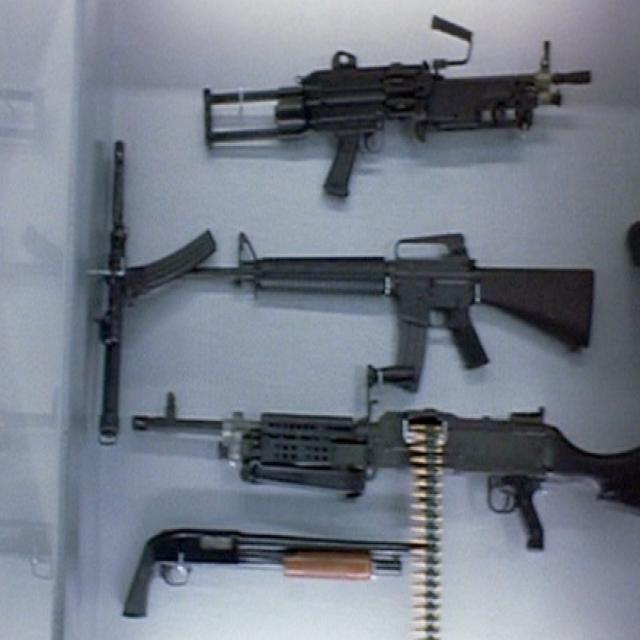rifle: (129, 385, 640, 556), (196, 15, 604, 203), (193, 227, 603, 396)
